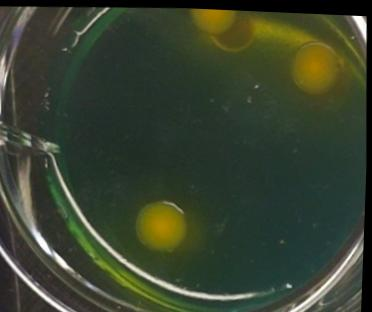vharveyi: (131, 191, 193, 256), (287, 32, 349, 92), (184, 6, 238, 39)
